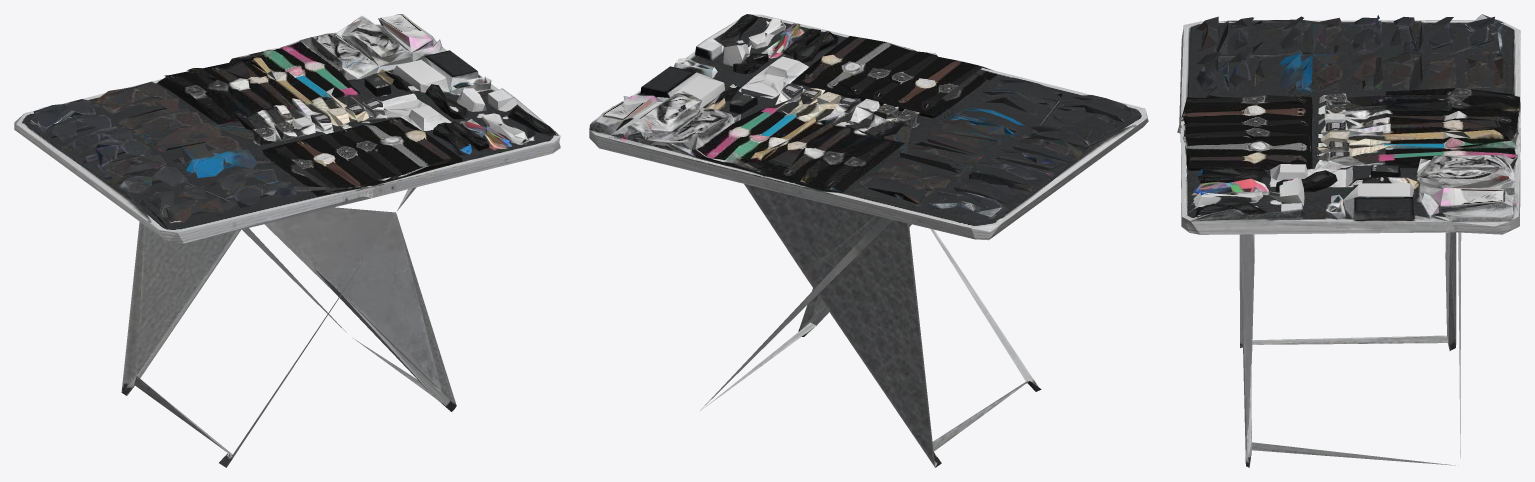
File: gadgets.glb
3 renders of one model, left to right at view 1: azimuth 30°, elevation 25°; view 2: azimuth 150°, elevation 25°; view 3: azimuth 270°, elevation 25°, orthographic. The views are drawn at different scales.
Size of the model in its own units: 1.9 by 1.34 by 1.35.
1 material, 1 textured.
